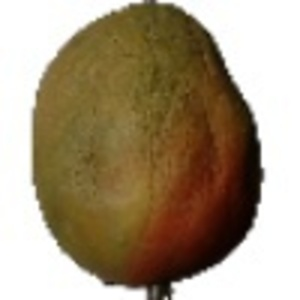mamão: (27, 3, 267, 290)
